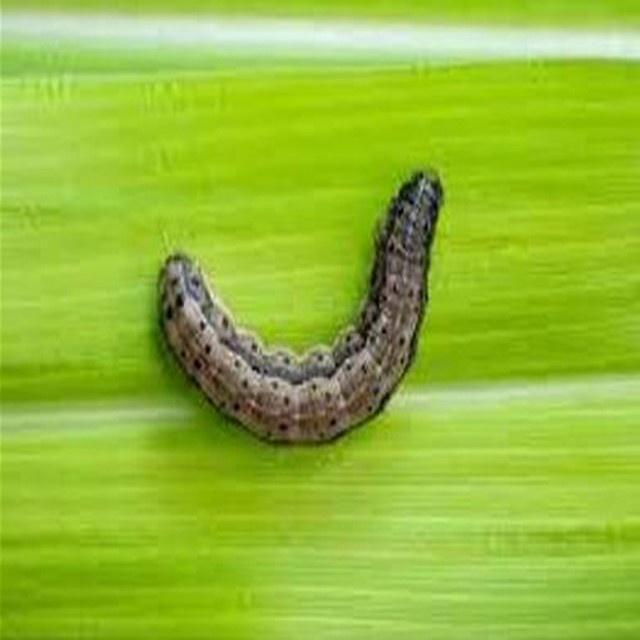gusano_cogollero: (152, 166, 448, 452)
